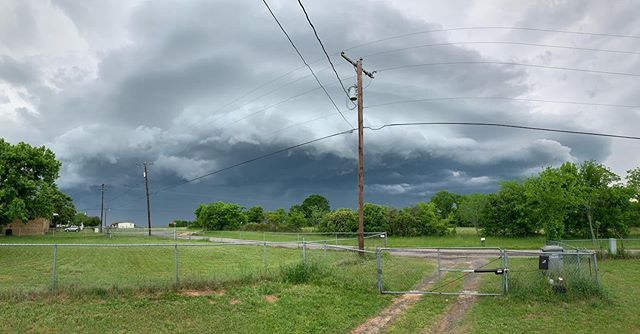grass: (1, 241, 418, 334)
sky: (1, 1, 619, 161)
tree: (1, 144, 63, 233)
vegetation: (197, 166, 640, 233)
